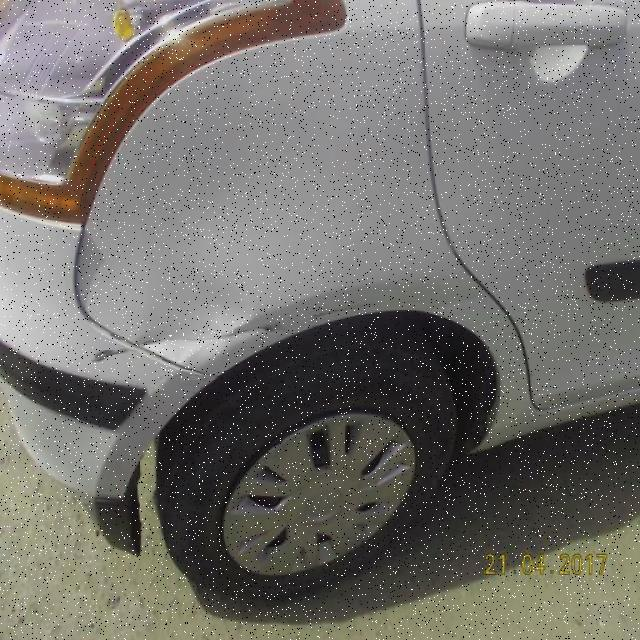car damage: (88, 321, 280, 363), (315, 296, 415, 322)
